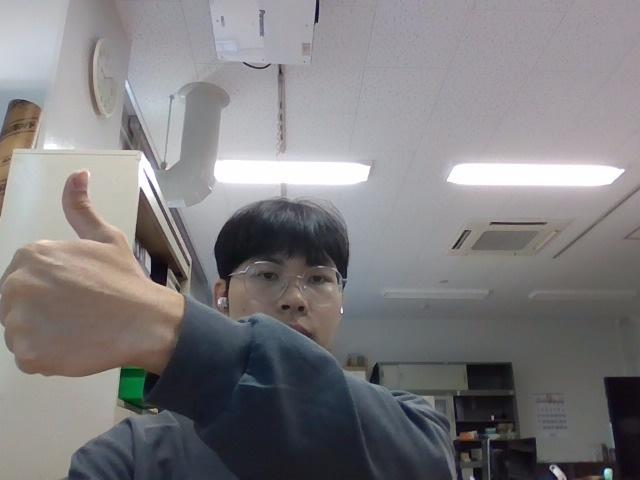thumbs-up: (1, 161, 198, 376)
